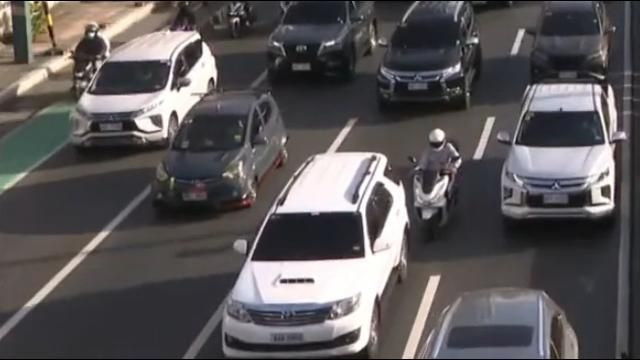car: (207, 139, 408, 360), (145, 79, 296, 230), (59, 33, 218, 161), (380, 0, 488, 112), (253, 0, 384, 79), (519, 0, 617, 81)
motorcycle: (408, 129, 465, 242), (67, 24, 111, 103), (226, 0, 253, 39)
pickup-truck: (479, 66, 631, 242)
